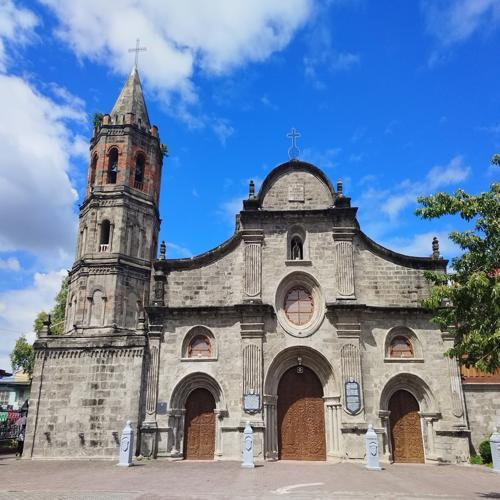Barasoain Church: (27, 35, 472, 467)
